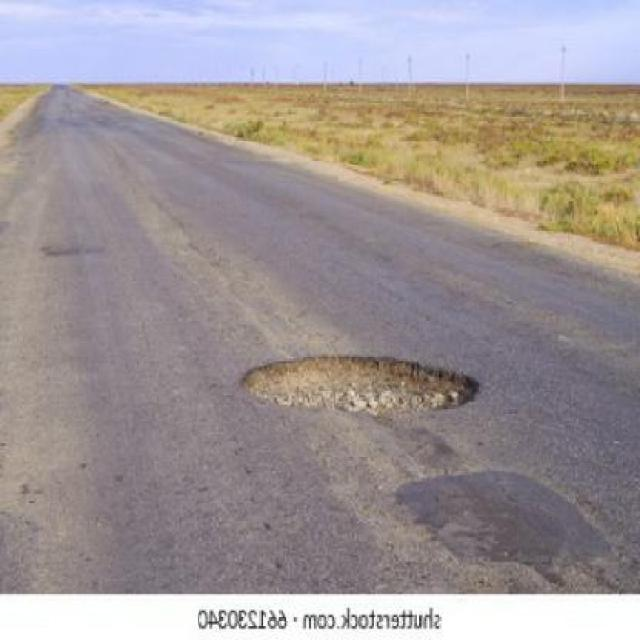pothole: (241, 356, 482, 416)
